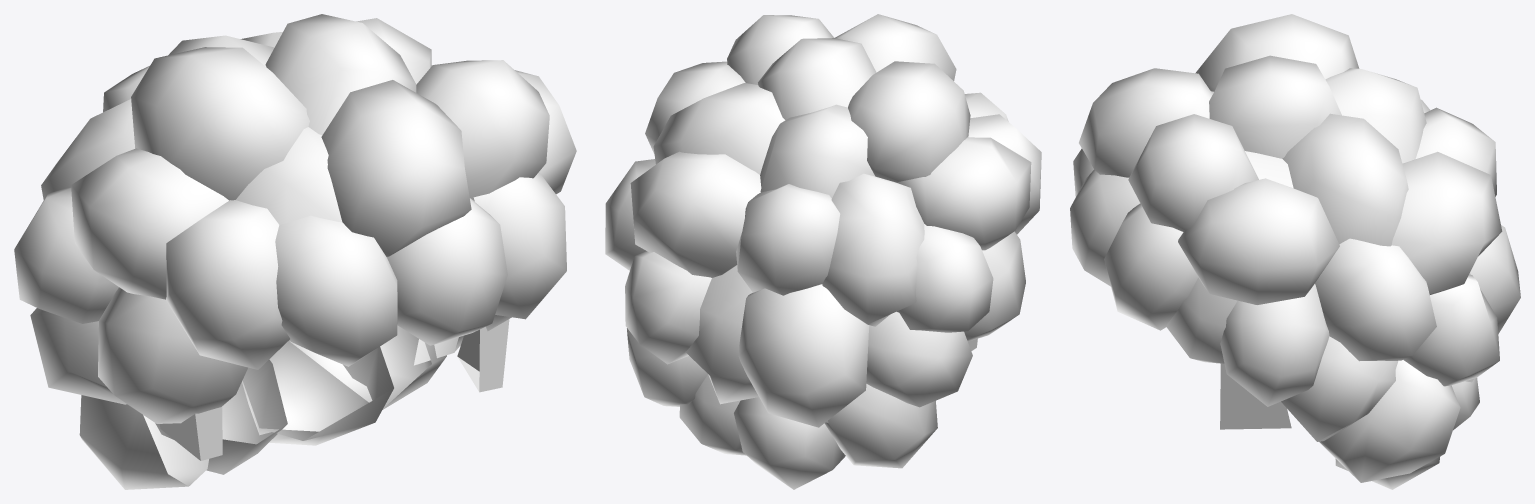
File: Male_Hairs_04.fbx
The picture shows the model from 3 angles, left to right: view 1: azimuth 30°, elevation 25°; view 2: azimuth 150°, elevation 25°; view 3: azimuth 270°, elevation 25°; orthographic projection. The views are drawn at different scales.
Parts seen in each view (by area): view 1: Male_Hairs_04; view 2: Male_Hairs_04; view 3: Male_Hairs_04.
Boxes of the visible parts, left/top/right/bottom form: Male_Hairs_04: left=14, top=14, right=576, bottom=489; Male_Hairs_04: left=605, top=14, right=1041, bottom=489; Male_Hairs_04: left=1070, top=14, right=1520, bottom=489.
Size of the model in its own units: 78.16 by 75.37 by 76.42.
